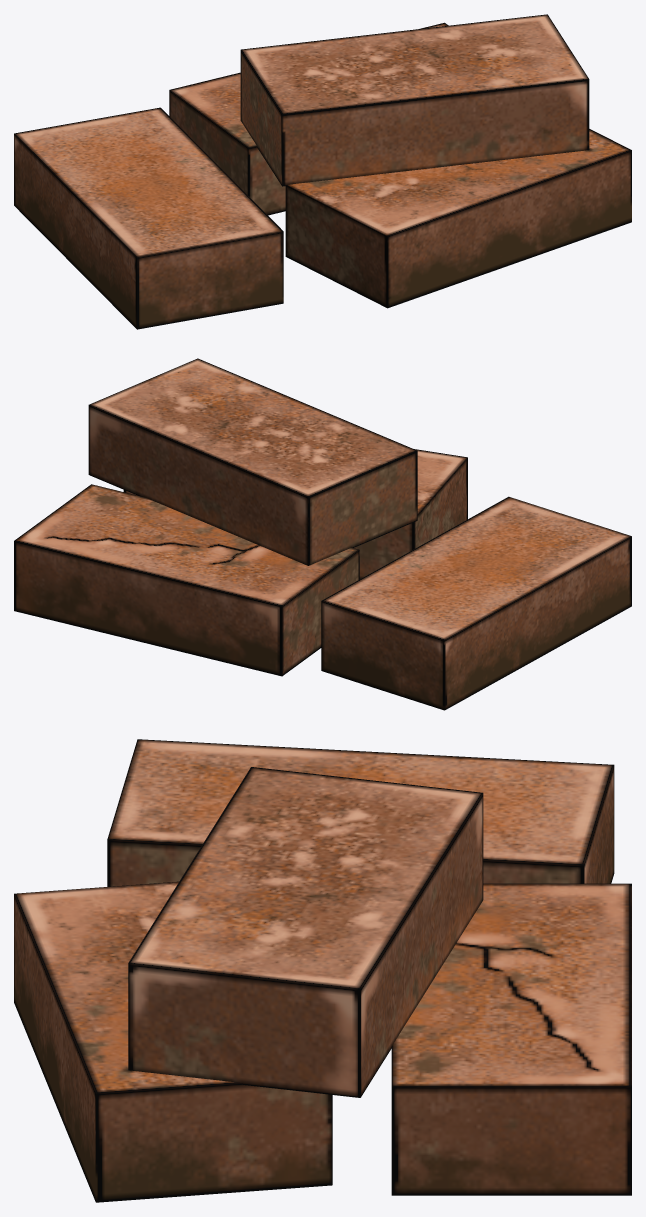
File: SM_Tilepile_Small.fbx
The picture shows the model from 3 angles, top to bottom: view 1: azimuth 30°, elevation 25°; view 2: azimuth 150°, elevation 25°; view 3: azimuth 270°, elevation 25°; orthographic projection. The views are drawn at different scales.
Visible parts, largest first — view 1: SM_Tilepile_Small; view 2: SM_Tilepile_Small; view 3: SM_Tilepile_Small.
Part boxes in pixels (x1,y1,x2,y2): SM_Tilepile_Small: (14,14,631,329); SM_Tilepile_Small: (14,358,631,710); SM_Tilepile_Small: (14,739,631,1202).
Bounding box in the file's own units: 38.67 × 10.91 × 28.29.
